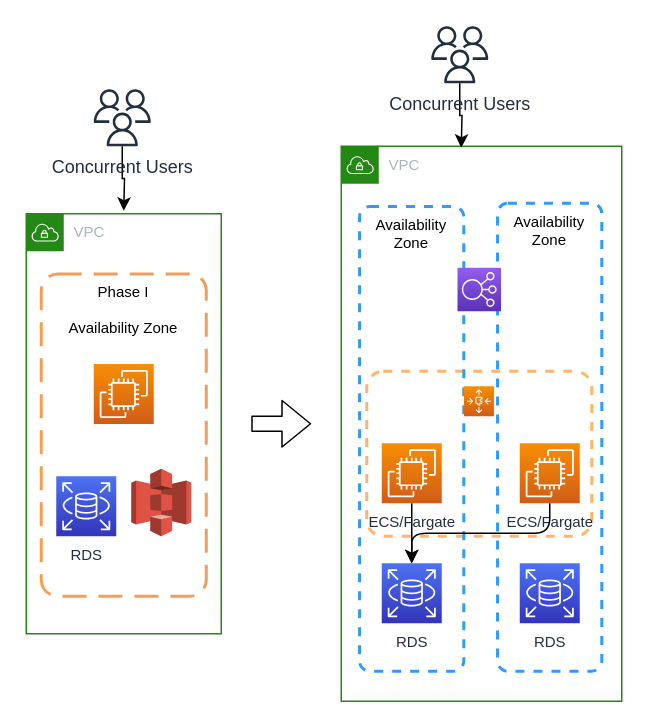
Some shapes in this 648 by 728 pixel diagram are drawn without their labels. Each missing label, with the centre of its shape:
100TB Storage: point (160, 501)
ALB: point (478, 288)
Auto Scaling Group: point (478, 400)
EC2: point (123, 393)
